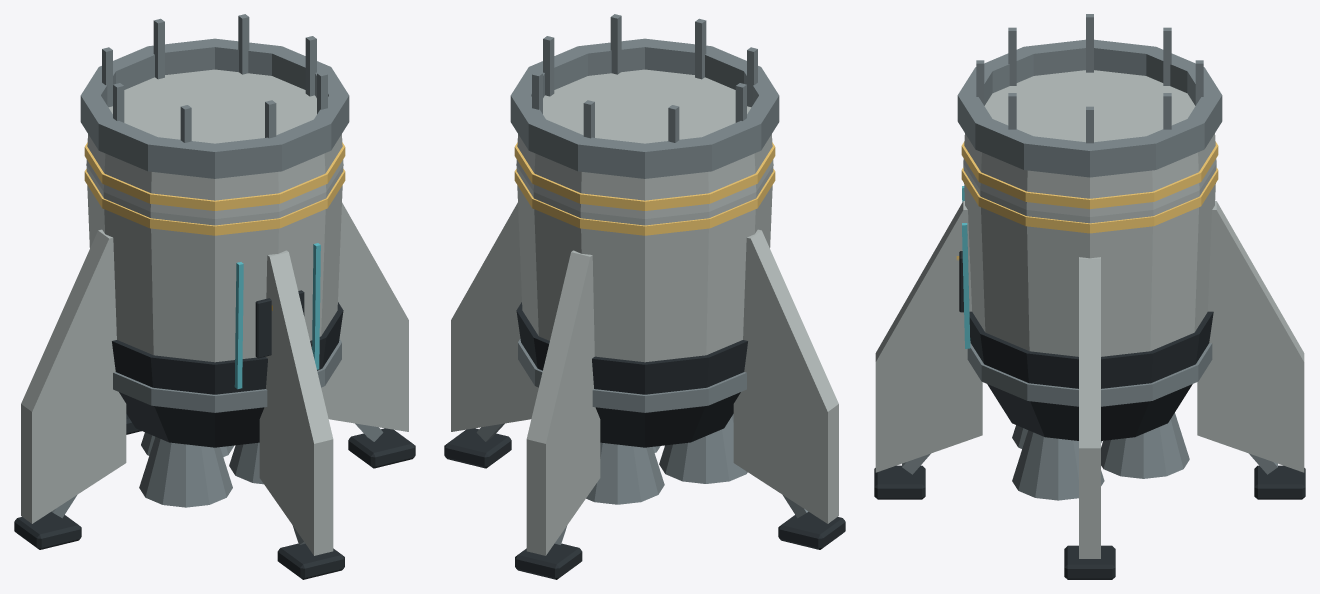
The model's file is survey-ship-lower.glb.
3 views of the same model, side by side, from view 1: azimuth 30°, elevation 25°; view 2: azimuth 150°, elevation 25°; view 3: azimuth 270°, elevation 25° (orthographic).
Parts seen in each view (by area): view 1: Space rocket lower stage / Survey ship ivory armor, Space rocket lower stage / Exposed survey ship frame, Space rocket lower stage / Scorched graphite interiors, Space rocket lower stage / Survey ship gold identification, Space rocket lower stage / Survey ship cyan service lines; view 2: Space rocket lower stage / Survey ship ivory armor, Space rocket lower stage / Exposed survey ship frame, Space rocket lower stage / Scorched graphite interiors, Space rocket lower stage / Survey ship gold identification; view 3: Space rocket lower stage / Survey ship ivory armor, Space rocket lower stage / Exposed survey ship frame, Space rocket lower stage / Scorched graphite interiors, Space rocket lower stage / Survey ship gold identification, Space rocket lower stage / Survey ship cyan service lines.
Part boxes in pixels (<box>): Space rocket lower stage / Survey ship ivory armor: <box>21,69,408,555</box>; Space rocket lower stage / Exposed survey ship frame: <box>51,14,383,544</box>; Space rocket lower stage / Scorched graphite interiors: <box>14,290,415,579</box>; Space rocket lower stage / Survey ship gold identification: <box>84,142,345,310</box>; Space rocket lower stage / Survey ship cyan service lines: <box>234,243,320,389</box>; Space rocket lower stage / Survey ship ivory armor: <box>451,69,838,555</box>; Space rocket lower stage / Exposed survey ship frame: <box>476,14,808,544</box>; Space rocket lower stage / Scorched graphite interiors: <box>444,302,845,579</box>; Space rocket lower stage / Survey ship gold identification: <box>514,142,775,235</box>; Space rocket lower stage / Survey ship ivory armor: <box>875,70,1304,558</box>; Space rocket lower stage / Exposed survey ship frame: <box>902,14,1277,500</box>; Space rocket lower stage / Scorched graphite interiors: <box>874,251,1305,579</box>; Space rocket lower stage / Survey ship gold identification: <box>956,141,1218,260</box>; Space rocket lower stage / Survey ship cyan service lines: <box>962,186,970,348</box>.
Size of the model in its own units: 1.77 by 1.94 by 1.77.
